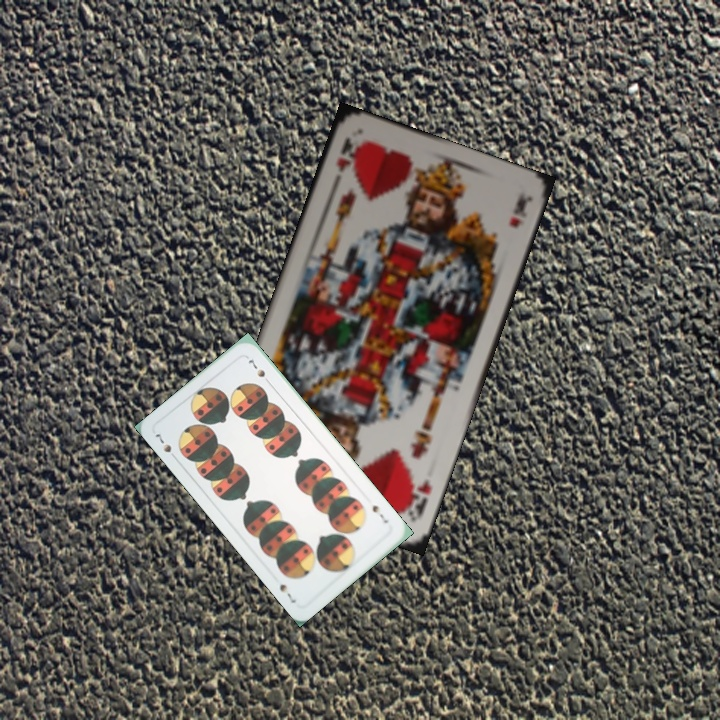HK: (328, 133, 361, 190), (400, 475, 434, 524)
S7: (151, 429, 180, 463), (368, 501, 391, 526)
